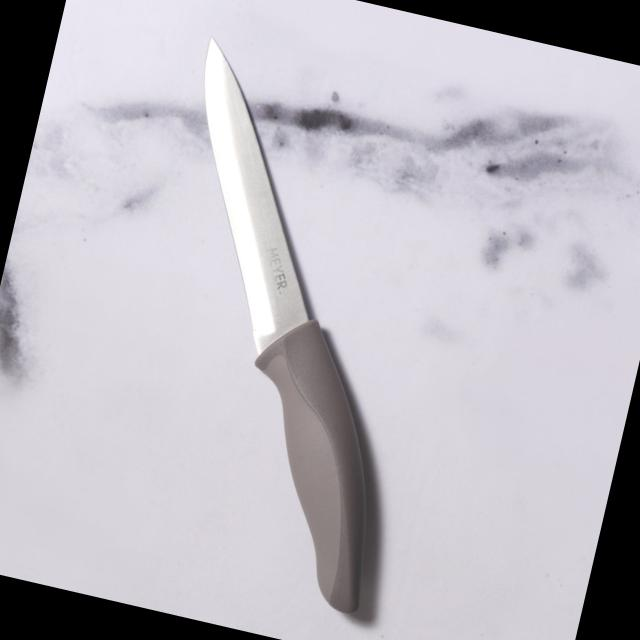Weapon: (75, 27, 502, 634)
